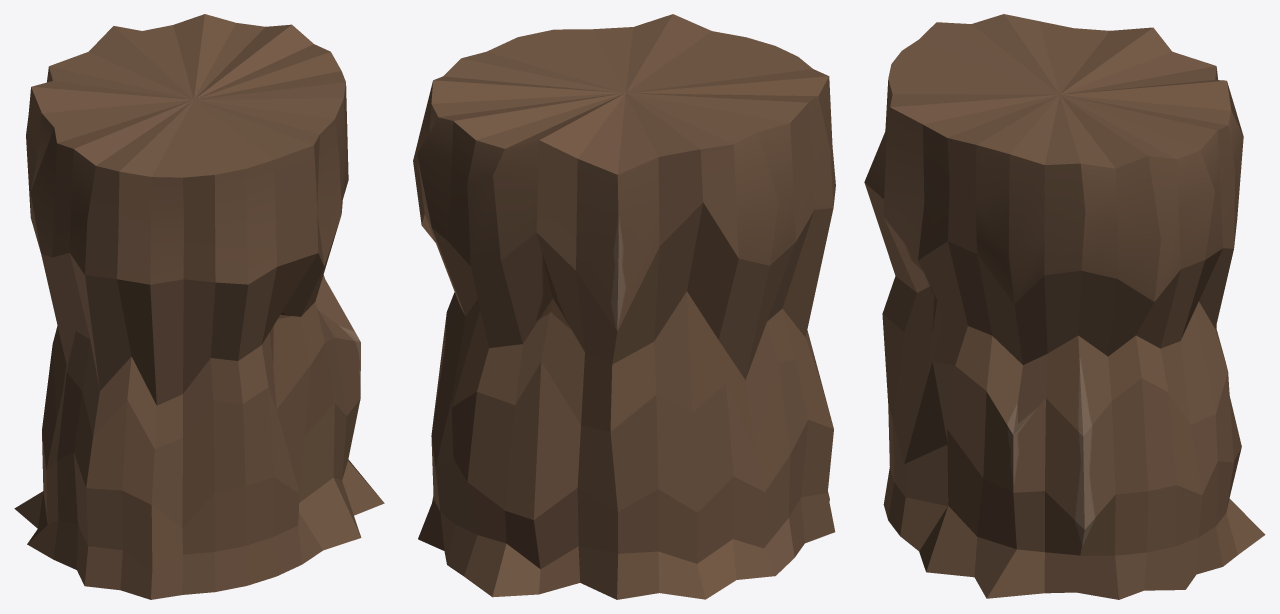
File: Wall03.fbx
3 views of the same model, side by side, from view 1: azimuth 30°, elevation 25°; view 2: azimuth 150°, elevation 25°; view 3: azimuth 270°, elevation 25° (orthographic). The views are drawn at different scales.
Parts seen in each view (by area): view 1: pCylinder3; view 2: pCylinder3; view 3: pCylinder3.
Part boxes in pixels (x1,y1,x2,y2): pCylinder3: [14, 14, 384, 599]; pCylinder3: [413, 14, 835, 599]; pCylinder3: [864, 14, 1265, 599].
Size of the model in its own units: 7.72 by 9.91 by 8.17.
